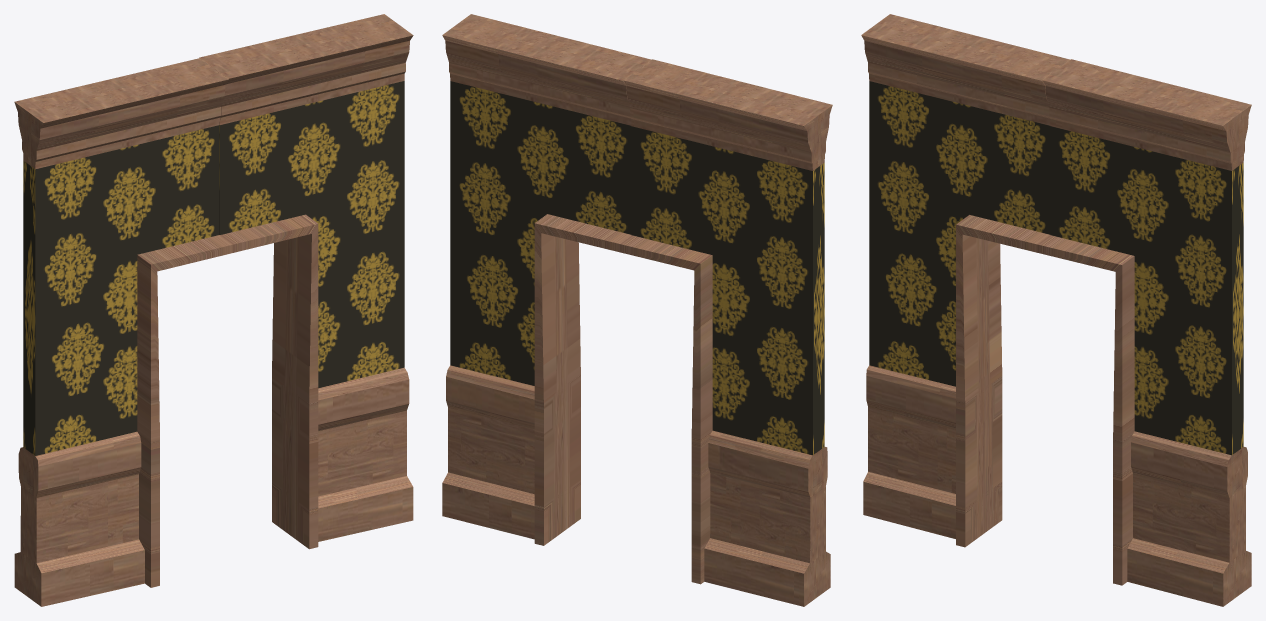
The model's file is Wall_TB_Door.fbx.
The picture shows the model from 3 angles, left to right: view 1: azimuth 30°, elevation 25°; view 2: azimuth 150°, elevation 25°; view 3: azimuth 330°, elevation 25°; orthographic projection.
Visible parts, largest first — view 1: MWall_Small_Door_TB; view 2: MWall_Small_Door_TB; view 3: MWall_Small_Door_TB.
Part boxes in pixels (x1,y1,x2,y2): MWall_Small_Door_TB: (14, 14, 413, 606); MWall_Small_Door_TB: (442, 14, 832, 606); MWall_Small_Door_TB: (861, 14, 1251, 606).
Size of the model in its own units: 811 by 143 by 1024.
